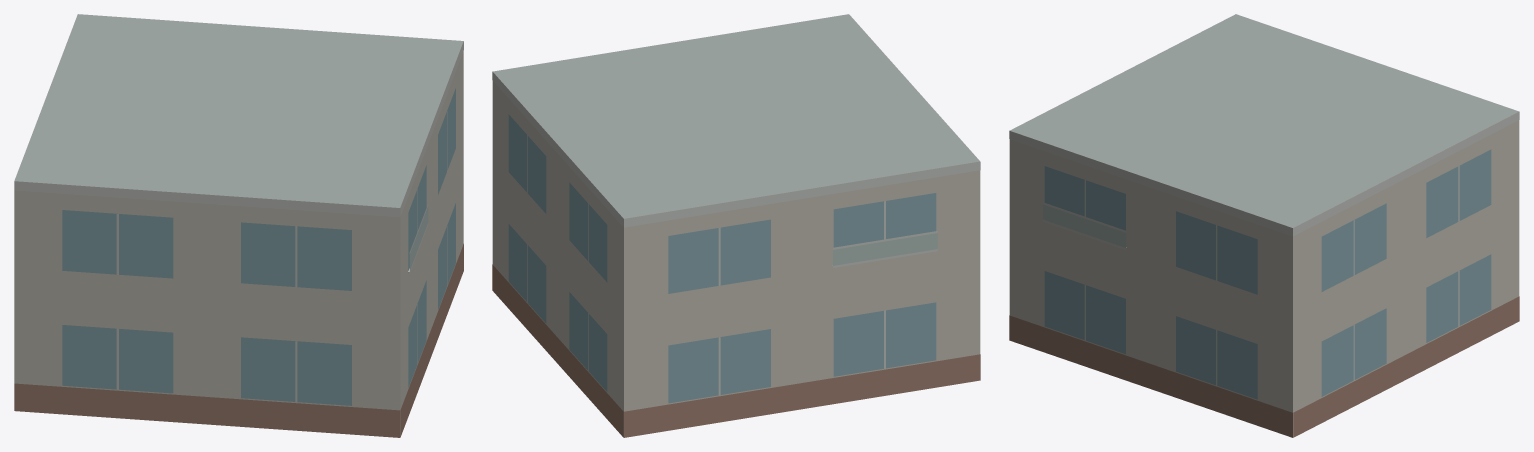
File: survey-upis-32712056.glb
3 views of the same model, side by side, from view 1: azimuth 30°, elevation 25°; view 2: azimuth 150°, elevation 25°; view 3: azimuth 270°, elevation 25° (orthographic). The views are drawn at different scales.
Parts seen in each view (by area): view 1: survey-upis-32712056.tmp; view 2: survey-upis-32712056.tmp; view 3: survey-upis-32712056.tmp.
Part boxes in pixels (left/top/right/bottom): survey-upis-32712056.tmp: left=14, top=14, right=463, bottom=437; survey-upis-32712056.tmp: left=492, top=14, right=980, bottom=437; survey-upis-32712056.tmp: left=1009, top=14, right=1519, bottom=437.
Size of the model in its own units: 13.36 by 6.1 by 13.45.
